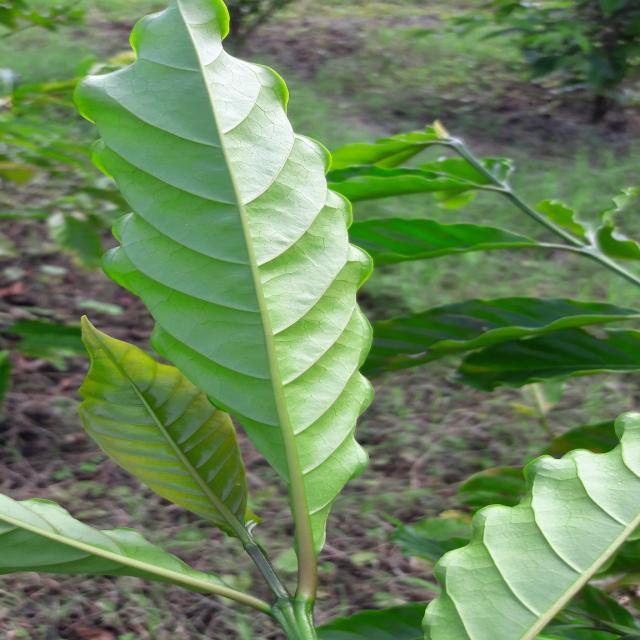Sanas: (73, 0, 377, 599)
